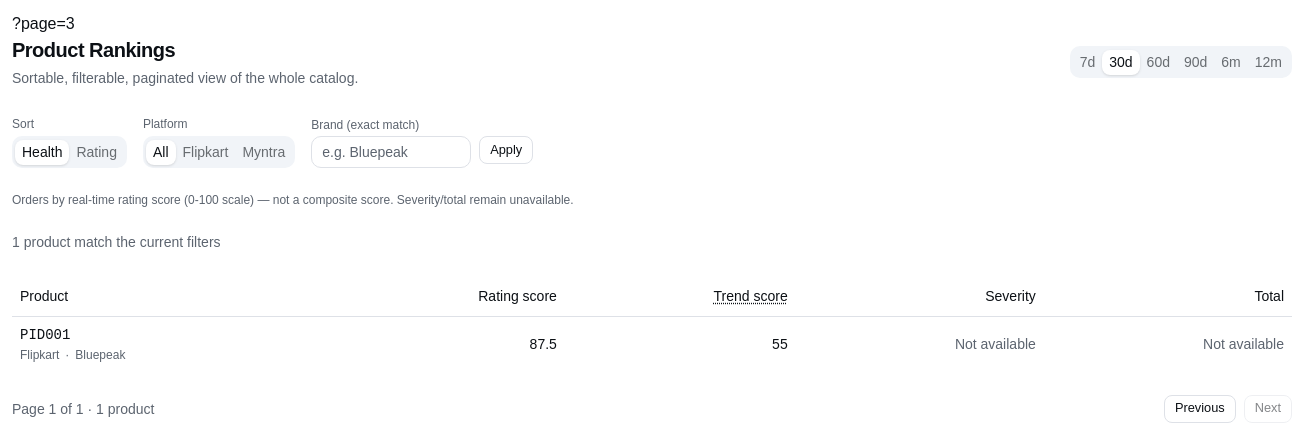
Test: Products / Rankings (Phase 7 Step 4) › 14. changing the window resets to page 1 and requests the new window
Expected: the link "PID001" is shown, [20, 326, 70, 342]
Click the tab "90d" at (1196, 62), box [1177, 50, 1214, 74]
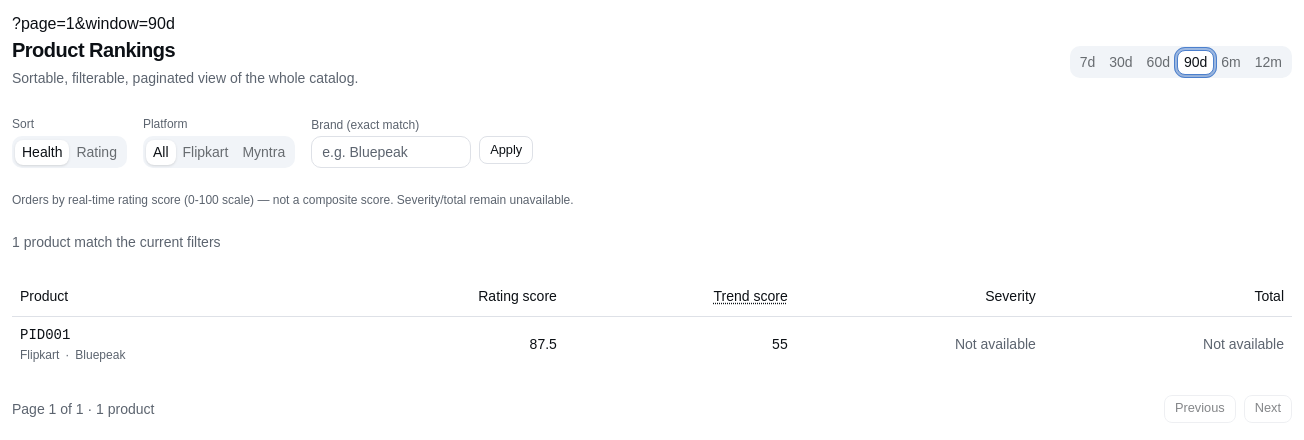
Now the text with test id "location-search" shows "window=90d", box [12, 15, 175, 32]
